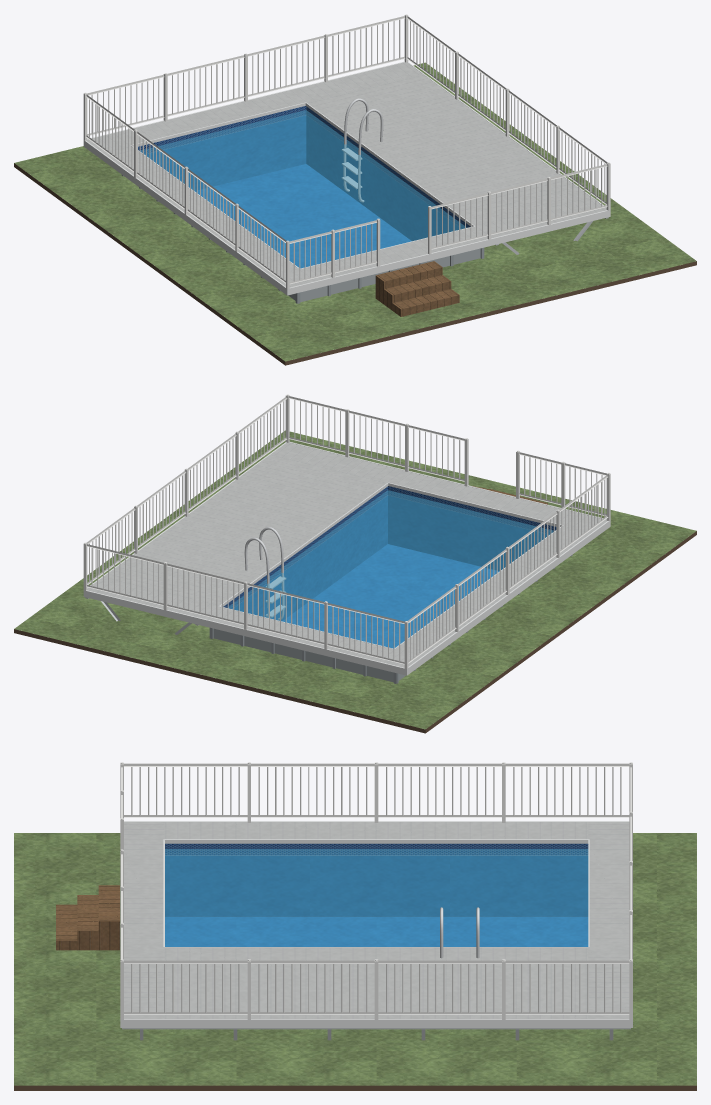
Rendered from kayak-pool-12x20-gray-side-rec-fence.098e84eb1d.glb.
3 renders of one model, top to bottom at view 1: azimuth 30°, elevation 25°; view 2: azimuth 150°, elevation 25°; view 3: azimuth 270°, elevation 25°, orthographic. The views are drawn at different scales.
Visible parts, largest first — view 1: ground, deck, water, fence, liner_wall, liner_floor, fascia, steps, soil, wall, steel; view 2: ground, deck, water, fence, liner_wall, liner_floor, fascia, soil, wall, steel; view 3: ground, deck, water, liner_wall, fence, liner_floor, fascia, soil, steps, stud.
Part boxes in pixels (x1=…): ground: x1=14, y1=62, x2=696, y2=361; deck: x1=86, y1=62, x2=606, y2=287; water: x1=140, y1=110, x2=466, y2=268; fence: x1=83, y1=14, x2=610, y2=288; liner_wall: x1=138, y1=106, x2=470, y2=240; liner_floor: x1=195, y1=164, x2=411, y2=268; fascia: x1=83, y1=61, x2=610, y2=295; steps: x1=375, y1=261, x2=459, y2=316; soil: x1=14, y1=163, x2=696, y2=365; wall: x1=288, y1=248, x2=480, y2=301; steel: x1=342, y1=98, x2=383, y2=202; ground: x1=14, y1=430, x2=696, y2=729; deck: x1=87, y1=442, x2=606, y2=667; water: x1=228, y1=490, x2=553, y2=648; fence: x1=83, y1=394, x2=610, y2=668; liner_wall: x1=223, y1=486, x2=556, y2=621; liner_floor: x1=282, y1=544, x2=499, y2=648; fascia: x1=83, y1=442, x2=610, y2=675; soil: x1=14, y1=531, x2=696, y2=733; wall: x1=213, y1=628, x2=405, y2=682; steel: x1=244, y1=527, x2=286, y2=620; ground: x1=14, y1=833, x2=696, y2=1085; deck: x1=124, y1=822, x2=629, y2=1018; water: x1=165, y1=849, x2=588, y2=946; liner_wall: x1=165, y1=843, x2=588, y2=916; fence: x1=120, y1=762, x2=632, y2=1019; liner_floor: x1=165, y1=917, x2=588, y2=946; fascia: x1=120, y1=821, x2=632, y2=1027; soil: x1=14, y1=1085, x2=696, y2=1090; steps: x1=56, y1=885, x2=119, y2=950; stud: x1=122, y1=1028, x2=630, y2=1040.
Bounding box in the file's own units: 8.53 × 2.15 × 9.75.
Materials: 13 (5 with a texture image).
